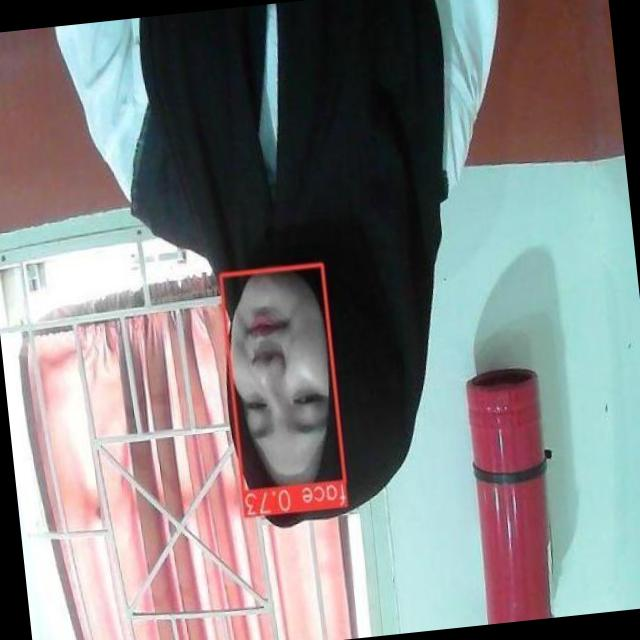bareface: (218, 263, 352, 501)
